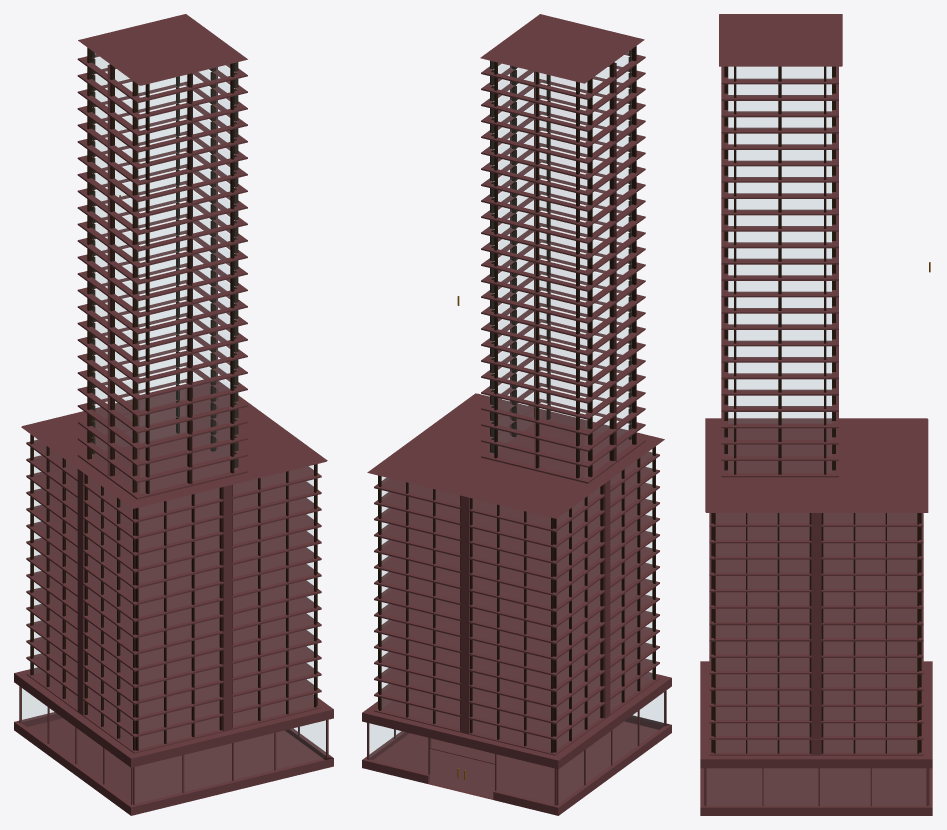
The model's file is skyscraper3.fbx.
The picture shows the model from 3 angles, left to right: view 1: azimuth 30°, elevation 25°; view 2: azimuth 150°, elevation 25°; view 3: azimuth 270°, elevation 25°; orthographic projection. The views are drawn at different scales.
Visible parts, largest first — view 1: Cube, Cube.005, Cube.003, Plane, Plane.001, Cube.002; view 2: Cube, Cube.005, Cube.003, Plane, Plane.001, Cube.002; view 3: Cube, Cube.005, Cube.003, Plane, Plane.001.
Part boxes in pixels (x1,y1,x2,y2): Cube: (26, 434, 321, 753); Cube.005: (77, 47, 247, 499); Cube.003: (14, 667, 333, 815); Plane: (21, 381, 327, 508); Plane.001: (78, 14, 247, 85); Cube.002: (22, 689, 325, 755); Cube: (374, 446, 659, 755); Cube.005: (481, 46, 645, 483); Cube.003: (362, 672, 671, 815); Plane: (367, 393, 664, 518); Plane.001: (480, 14, 644, 83); Cube.002: (370, 693, 663, 756); Cube: (709, 513, 923, 755); Cube.005: (721, 66, 838, 477); Cube.003: (700, 661, 932, 815); Plane: (705, 418, 928, 512); Plane.001: (719, 14, 842, 66).
Bounding box in the file's own units: 424 × 1435 × 424.
